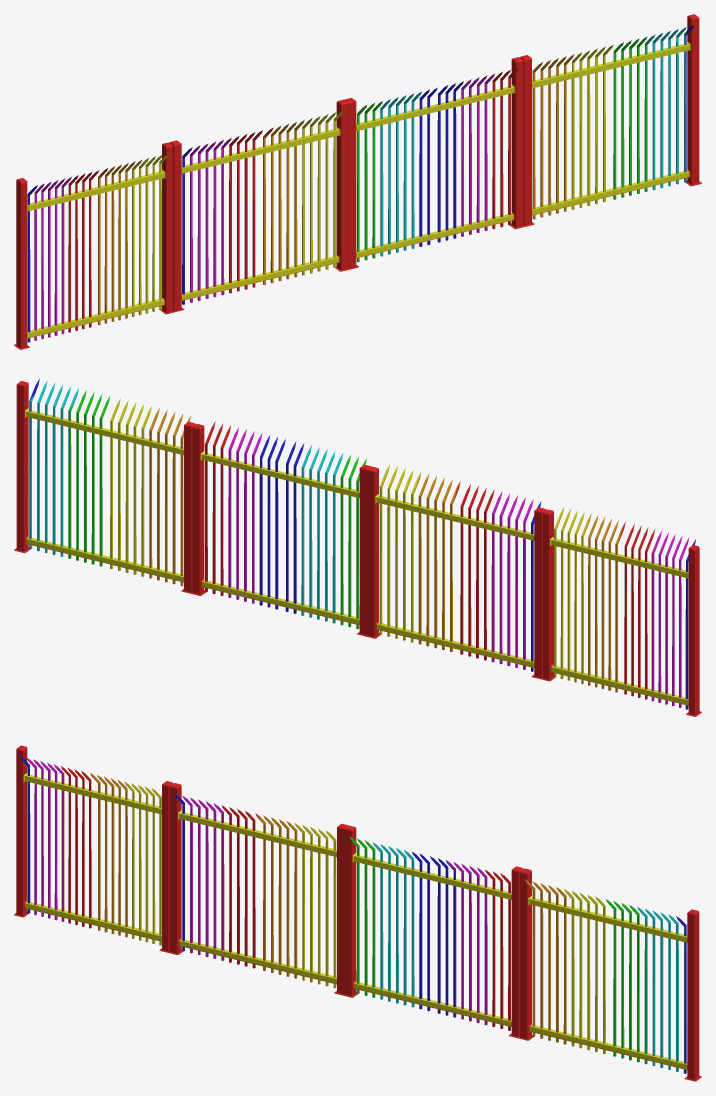
File: _fence.fbx
3 renders of one model, top to bottom at view 1: azimuth 30°, elevation 25°; view 2: azimuth 150°, elevation 25°; view 3: azimuth 330°, elevation 25°, orthographic.
Visible parts, largest first — view 1: Cube.313, Cube.312, Cube.315, Cube.001; view 2: Cube.313, Cube.312, Cube.315, Cube.001; view 3: Cube.312, Cube.313, Cube.315, Cube.001.
Part boxes in pixels (bbox=[...]): Cube.313: bbox=[345, 57, 525, 269]; Cube.312: bbox=[520, 14, 701, 226]; Cube.315: bbox=[169, 99, 351, 312]; Cube.001: bbox=[14, 142, 174, 349]; Cube.313: bbox=[190, 421, 371, 636]; Cube.312: bbox=[14, 378, 195, 593]; Cube.315: bbox=[364, 464, 545, 679]; Cube.001: bbox=[540, 507, 701, 716]; Cube.312: bbox=[517, 868, 701, 1081]; Cube.313: bbox=[341, 825, 523, 1038]; Cube.315: bbox=[167, 783, 348, 995]; Cube.001: bbox=[14, 745, 172, 952].
Size of the model in its own units: 2142 by 500 by 68.89.
